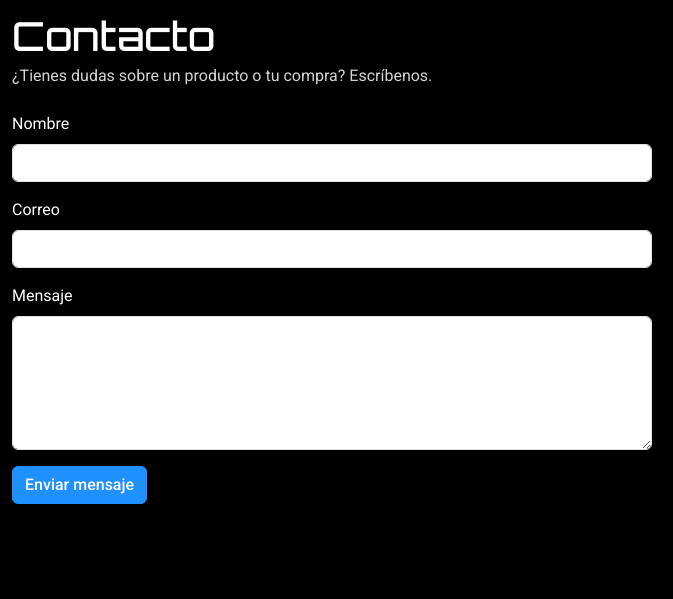
Test case: ContactoView › con los datos válidos envía el mensaje, avisa y limpia el formulario
Type "Ana" into the field labelled "Nombre". click: (332, 163)
box: [12, 144, 652, 182]
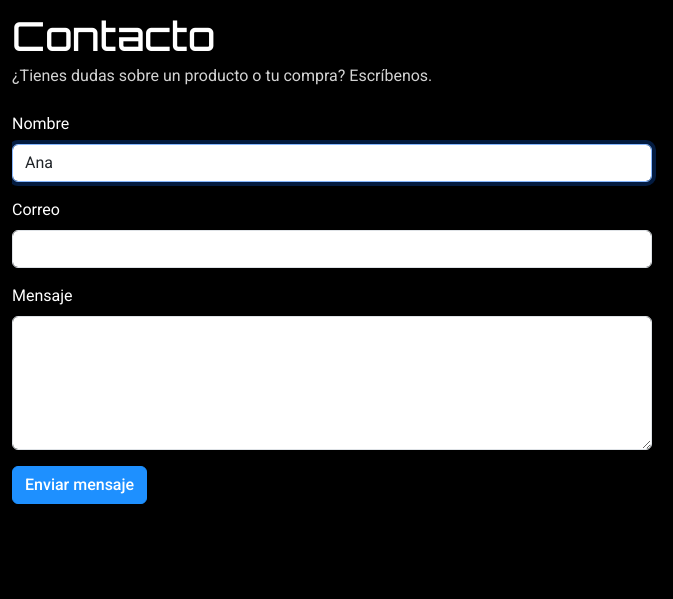
Type "ana@duocuc.cl" into the field labelled "Correo". click: (332, 249)
box: [12, 230, 652, 268]
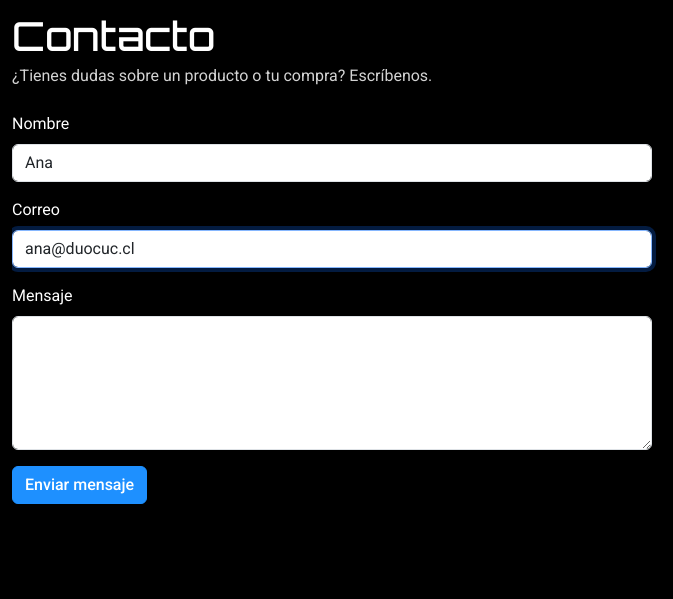
Type "Quiero saber si hay stock." into the text box labelled "Mensaje". click: (332, 383)
box: [12, 316, 652, 450]
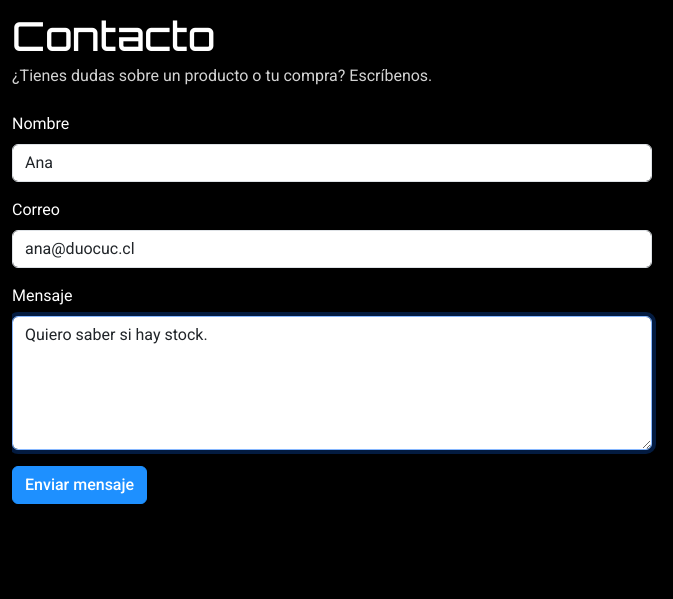
Click the button "Enviar mensaje". click: (80, 485)
box: [12, 466, 147, 504]
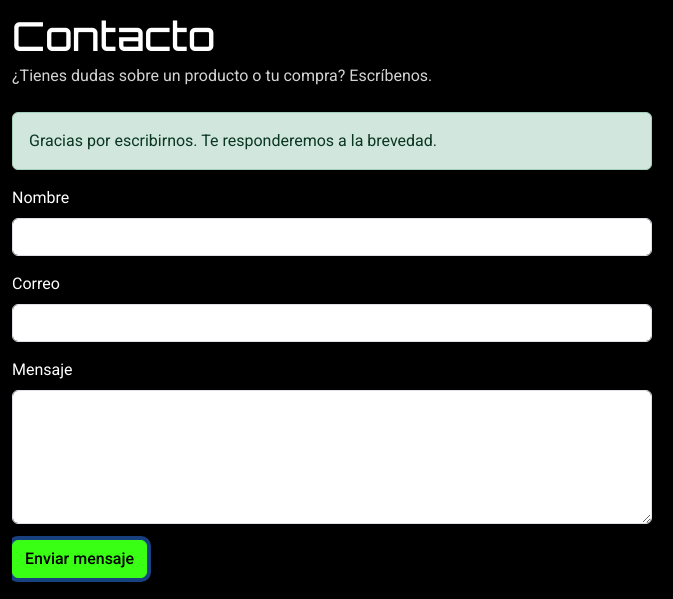
Check: the message shows "Gracias por escribirnos", box [29, 131, 437, 150]
Check: the field labelled "Nombre" is empty, box [12, 218, 652, 256]
